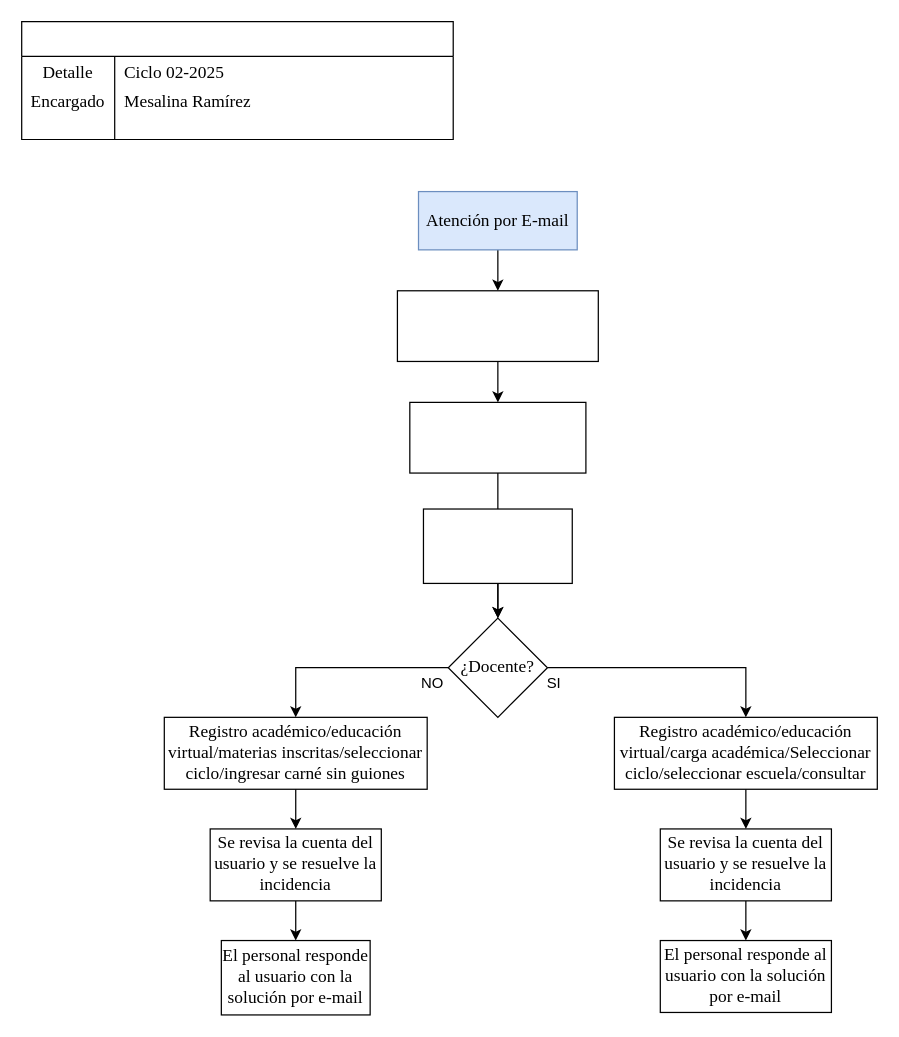
Some shapes in this 899 by 1037 pixel diagram are drawn without their labels. The box of each missing label's shape, as (x1, y1, x2, y2) in pixels:
El personal recibe un correo con la incidencia del usuario: (396, 290, 598, 361)
Si el correo llega la Dirección, se asigna el caso al área técnica: (409, 401, 586, 473)
Soporte a consultas: personal, e-mail, llamadas telefónicas: (20, 20, 453, 140)
Verifica la identidad del usuario (carné o usuario docente): (422, 508, 572, 583)
